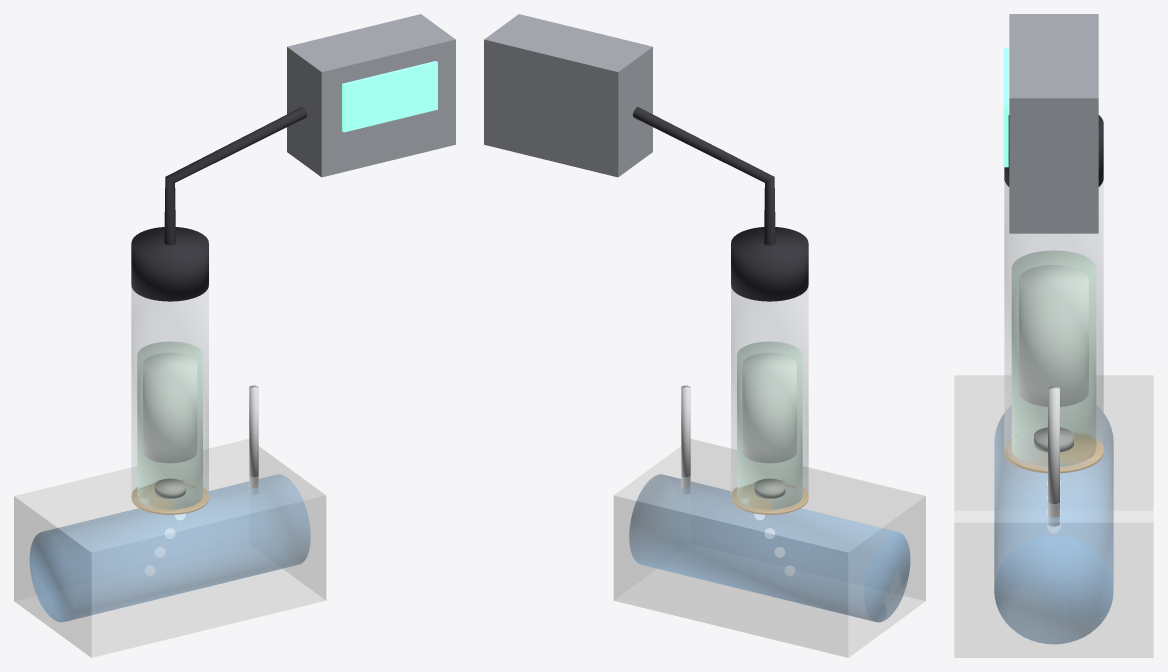
File: membrane.glb
The picture shows the model from 3 angles, left to right: view 1: azimuth 30°, elevation 25°; view 2: azimuth 150°, elevation 25°; view 3: azimuth 270°, elevation 25°; orthographic projection. The views are drawn at different scales.
Visible parts, largest first — view 1: 流通池, 流通池_液, 变送器, 探头外壳, 内部电解液, 对电极, 探头顶, 变送器_屏, 电缆, 测温元件, 透气膜; view 2: 流通池, 流通池_液, 变送器, 探头外壳, 内部电解液, 对电极, 探头顶, 电缆, 测温元件, 透气膜; view 3: 流通池, 探头外壳, 流通池_液, 变送器, 内部电解液, 对电极, 测温元件, 透气膜, 变送器_屏, 探头顶, 工作电极.
Part boxes in pixels (left/top/right/bottom): 流通池: left=14, top=439, right=326, bottom=657; 流通池_液: left=29, top=474, right=310, bottom=622; 变送器: left=287, top=14, right=455, bottom=177; 探头外壳: left=131, top=287, right=208, bottom=511; 内部电解液: left=137, top=341, right=202, bottom=509; 对电极: left=143, top=353, right=196, bottom=462; 探头顶: left=131, top=227, right=208, bottom=301; 变送器_屏: left=342, top=61, right=437, bottom=132; 电缆: left=164, top=107, right=307, bottom=245; 测温元件: left=249, top=385, right=258, bottom=494; 透气膜: left=131, top=480, right=208, bottom=514; 流通池: left=613, top=439, right=925, bottom=657; 流通池_液: left=629, top=474, right=910, bottom=622; 变送器: left=484, top=14, right=652, bottom=177; 探头外壳: left=731, top=287, right=808, bottom=511; 内部电解液: left=737, top=341, right=802, bottom=509; 对电极: left=743, top=353, right=796, bottom=462; 探头顶: left=731, top=227, right=808, bottom=301; 电缆: left=632, top=107, right=775, bottom=245; 测温元件: left=681, top=385, right=690, bottom=494; 透气膜: left=731, top=480, right=808, bottom=514; 流通池: left=954, top=375, right=1153, bottom=657; 探头外壳: left=1004, top=181, right=1103, bottom=469; 流通池_液: left=994, top=406, right=1113, bottom=644; 变送器: left=1009, top=14, right=1098, bottom=233; 内部电解液: left=1012, top=250, right=1095, bottom=466; 对电极: left=1019, top=265, right=1088, bottom=406; 测温元件: left=1048, top=386, right=1059, bottom=526; 透气膜: left=1004, top=433, right=1103, bottom=473; 变送器_屏: left=1003, top=47, right=1008, bottom=167; 探头顶: left=1004, top=115, right=1103, bottom=186; 工作电极: left=1034, top=427, right=1073, bottom=452.
Size of the model in its own units: 1.15 by 1.45 by 0.4.
